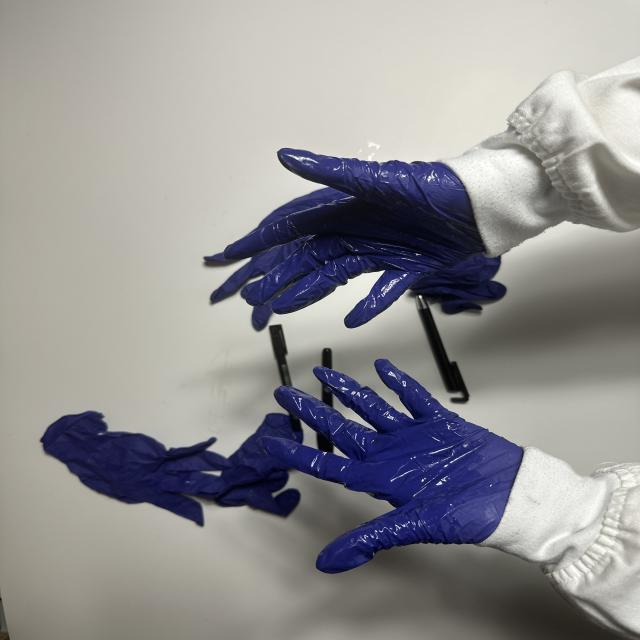gloves_contaminated: (259, 359, 523, 573), (224, 150, 484, 328)
